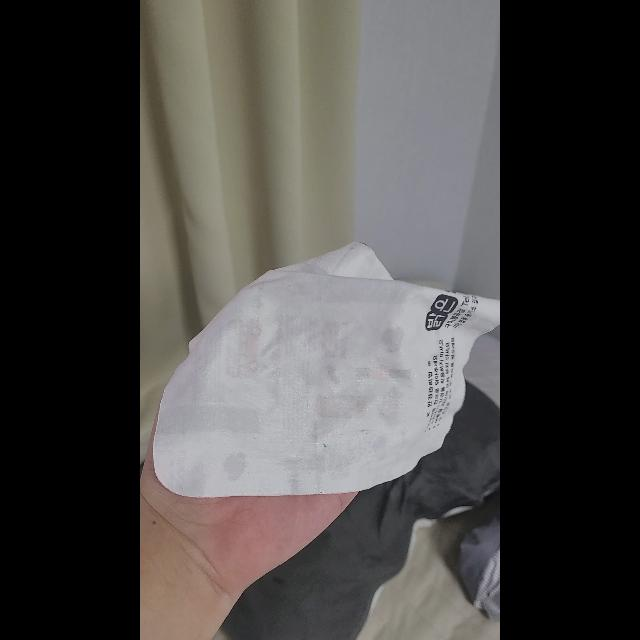Glasses cleaning cloth: (152, 241, 500, 497)
